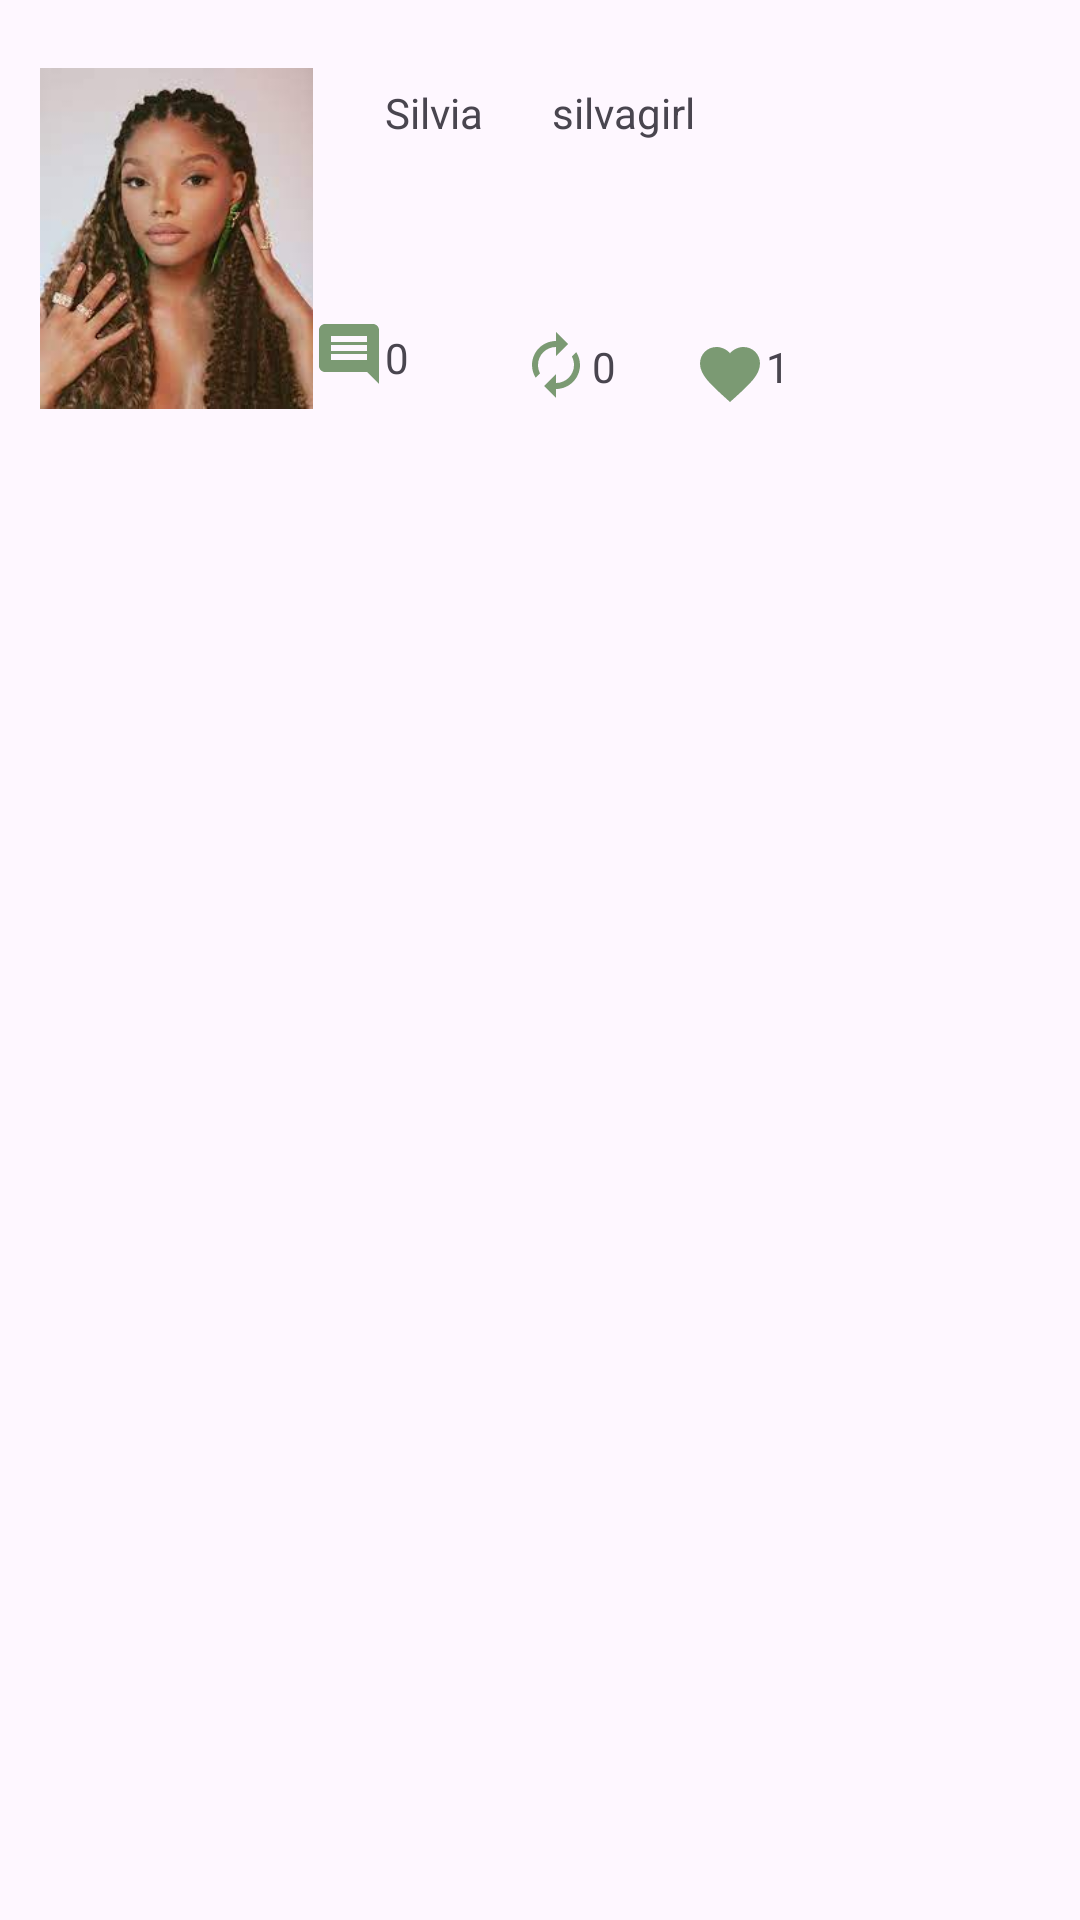

Screen size 1080×1920. Icon name, then its center in pixels as (x=x, y=y):
autorenew: (x=556, y=365)
comment: (x=349, y=354)
favorite: (x=730, y=374)
